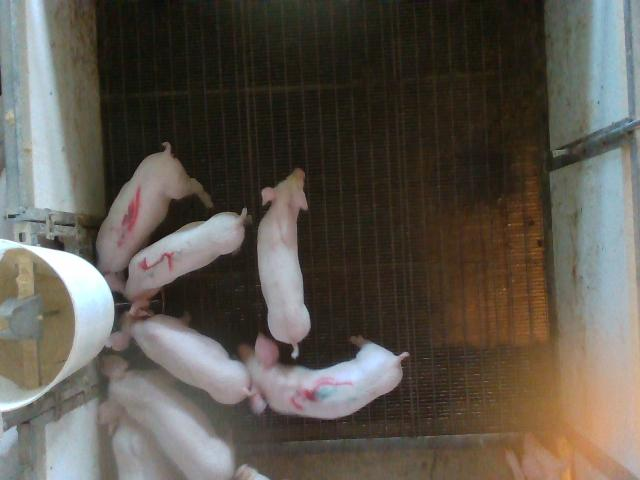pig-1: (98, 142, 212, 273)
pig-3: (239, 334, 409, 418)
pig-5: (104, 209, 246, 302)
